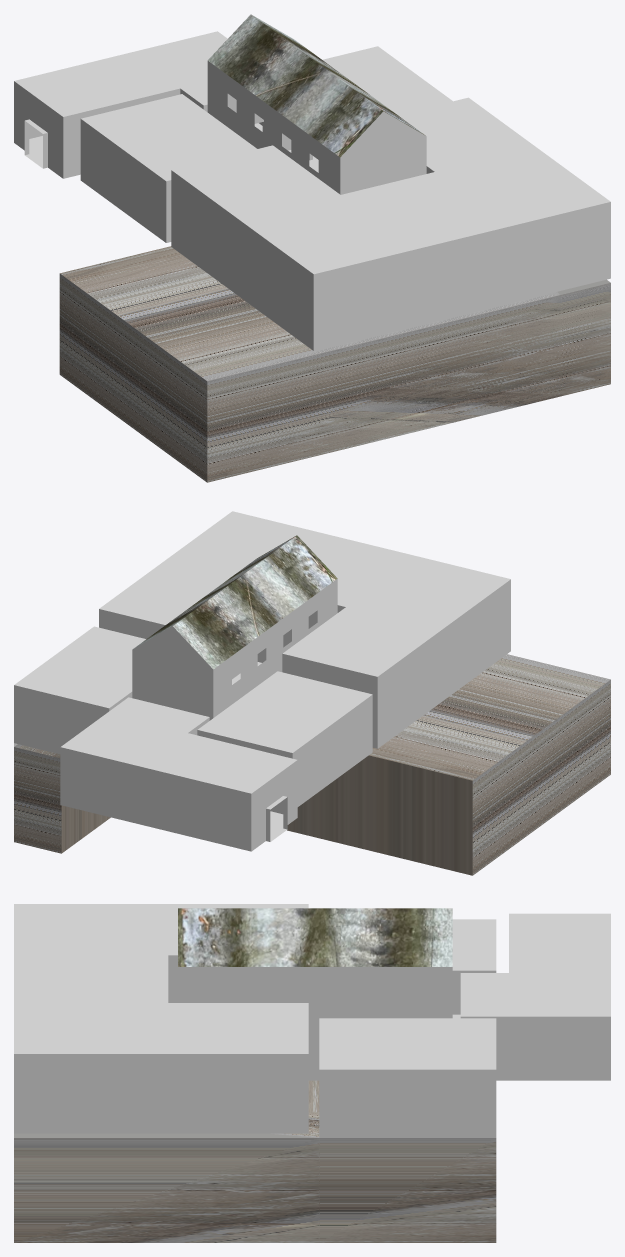
The model's file is level_rooms_only.fbx.
3 views of the same model, one above another, from view 1: azimuth 30°, elevation 25°; view 2: azimuth 150°, elevation 25°; view 3: azimuth 270°, elevation 25° (orthographic). The views are drawn at different scales.
Visible parts, largest first — view 1: Basement, Room.003, Main Corridor, Entrance, Room.004, Room.002; view 2: Basement, Room.003, Entrance, Main Corridor, Room.004, Room.002; view 3: Room.003, Basement, Main Corridor, Room.002, Entrance, Room.004.
Part boxes in pixels (<box>): Basement: <box>59,246,610,482</box>; Room.003: <box>171,97,610,350</box>; Main Corridor: <box>207,14,426,194</box>; Entrance: <box>14,31,262,178</box>; Room.004: <box>80,94,256,242</box>; Room.002: <box>313,46,452,163</box>; Basement: <box>14,654,610,875</box>; Room.003: <box>99,511,510,748</box>; Entrance: <box>60,697,297,851</box>; Main Corridor: <box>132,535,337,720</box>; Room.004: <box>197,671,372,806</box>; Room.002: <box>14,626,145,754</box>; Room.003: <box>14,904,308,1133</box>; Basement: <box>14,1080,496,1242</box>; Main Corridor: <box>178,908,460,1080</box>; Room.002: <box>319,1018,496,1137</box>; Entrance: <box>460,913,610,1080</box>; Room.004: <box>452,919,496,1014</box>.
Bounding box in the file's own units: 4376 × 2600 × 5414.
